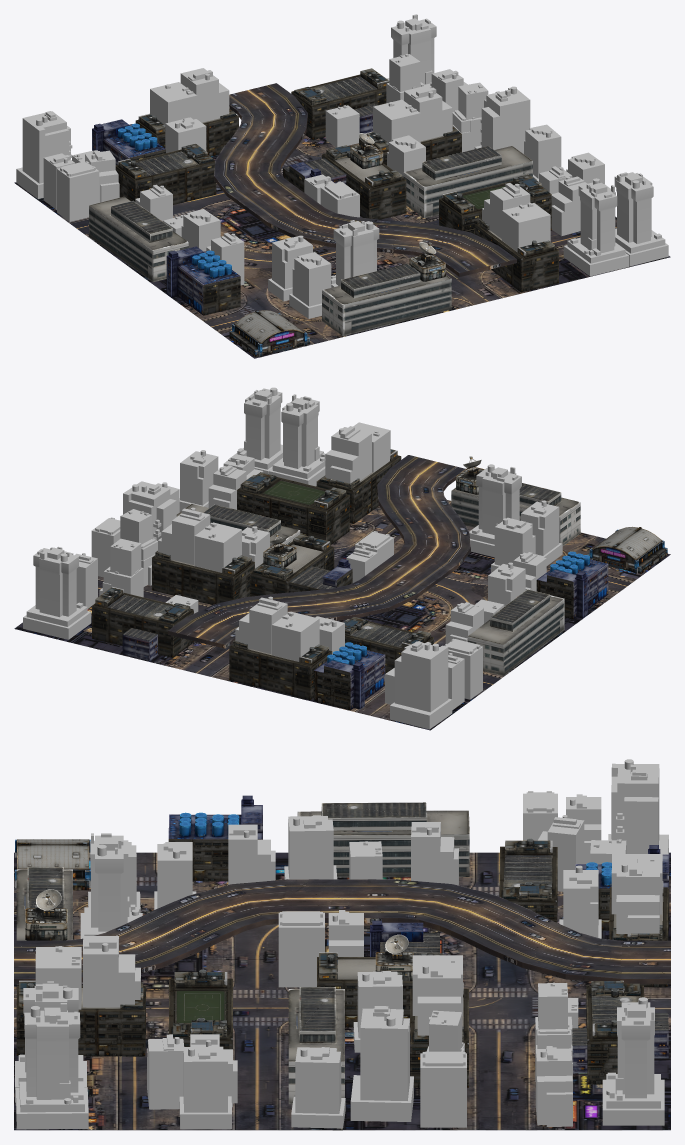
File: CP_Slums_Pack_200x200_04.fbx
3 views of the same model, one above another, from view 1: azimuth 30°, elevation 25°; view 2: azimuth 150°, elevation 25°; view 3: azimuth 270°, elevation 25° (orthographic). The views are drawn at different scales.
Visible parts, largest first — view 1: CP_Slums_Pack_200x200_04; view 2: CP_Slums_Pack_200x200_04; view 3: CP_Slums_Pack_200x200_04.
Boxes of the visible parts, x1,y1,x2,y2 form: CP_Slums_Pack_200x200_04: [14, 14, 670, 358]; CP_Slums_Pack_200x200_04: [14, 387, 670, 730]; CP_Slums_Pack_200x200_04: [14, 759, 670, 1130].
Bounding box in the file's own units: 20003 × 3845 × 20000.
